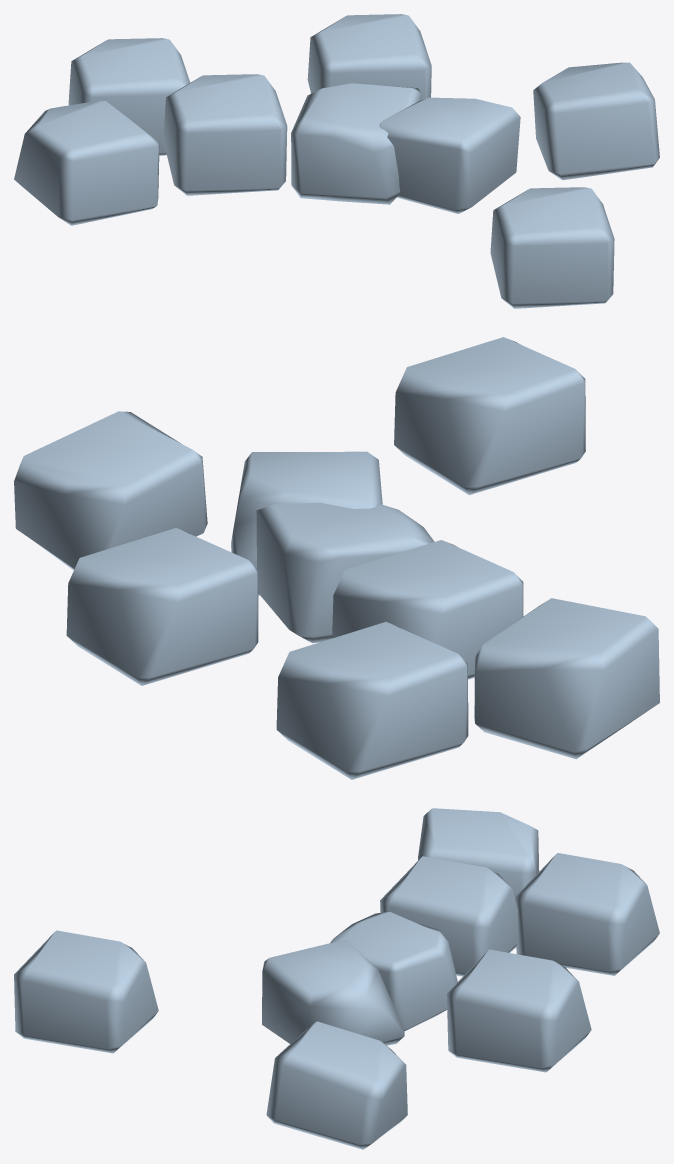
File: Pavement_08A_Lod0.fbx
3 views of the same model, one above another, from view 1: azimuth 30°, elevation 25°; view 2: azimuth 150°, elevation 25°; view 3: azimuth 270°, elevation 25° (orthographic). The views are drawn at different scales.
Parts seen in each view (by area): view 1: Pavement_08A_Lod0; view 2: Pavement_08A_Lod0; view 3: Pavement_08A_Lod0.
Part boxes in pixels (x1,y1,x2,y2): Pavement_08A_Lod0: [14, 14, 659, 308]; Pavement_08A_Lod0: [14, 337, 659, 779]; Pavement_08A_Lod0: [14, 808, 659, 1149].
Size of the model in its own units: 204 by 36.98 by 213.
